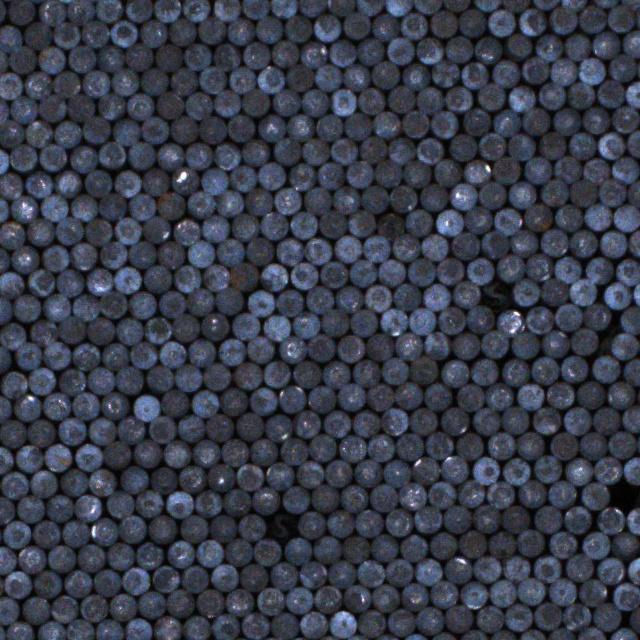tool: (517, 8, 546, 36), (548, 6, 577, 34), (228, 262, 257, 290), (59, 467, 87, 496), (354, 509, 383, 537), (312, 535, 340, 564), (291, 409, 320, 437), (372, 12, 399, 42), (197, 16, 225, 44), (302, 187, 330, 215), (582, 202, 610, 230), (612, 204, 640, 232), (10, 245, 38, 273), (187, 240, 215, 268), (480, 230, 508, 258), (143, 265, 171, 293), (99, 290, 127, 318), (407, 258, 435, 286), (2, 520, 30, 548), (480, 330, 508, 358), (190, 389, 218, 417), (88, 468, 116, 496), (103, 440, 131, 468), (163, 439, 191, 467), (134, 489, 162, 517), (147, 515, 175, 543), (222, 489, 250, 517), (46, 544, 74, 572), (610, 332, 638, 360), (352, 359, 380, 387), (307, 385, 335, 413), (219, 438, 247, 466), (296, 461, 324, 489), (382, 460, 410, 488), (502, 457, 530, 485), (564, 457, 592, 485), (398, 482, 426, 510), (427, 481, 455, 509), (384, 508, 412, 536), (548, 480, 576, 508), (472, 504, 500, 532), (501, 504, 529, 532), (356, 559, 384, 587), (384, 558, 412, 586), (533, 555, 561, 583), (578, 4, 605, 33), (301, 88, 328, 117), (198, 115, 225, 144), (492, 108, 519, 137), (598, 178, 625, 207), (523, 204, 552, 231), (216, 237, 243, 266), (134, 439, 161, 468), (90, 517, 117, 546), (424, 382, 451, 411), (485, 382, 512, 411), (563, 406, 590, 435), (425, 430, 452, 459), (611, 532, 638, 561), (415, 606, 442, 635), (24, 21, 51, 49), (81, 20, 108, 48), (168, 18, 195, 46), (226, 18, 254, 45), (254, 15, 282, 42), (284, 15, 312, 42), (313, 13, 340, 41), (429, 10, 456, 38), (457, 9, 485, 36), (37, 46, 64, 74), (256, 66, 284, 93), (371, 61, 398, 89), (430, 59, 458, 86), (459, 62, 487, 89), (433, 159, 461, 186), (492, 156, 519, 184), (360, 186, 388, 213), (449, 182, 476, 210), (539, 178, 566, 206), (200, 214, 228, 241), (231, 213, 258, 241), (290, 211, 317, 239), (318, 210, 346, 237), (376, 213, 404, 240), (554, 204, 582, 231), (98, 240, 125, 268), (157, 240, 184, 268), (245, 237, 272, 265), (362, 234, 389, 262), (173, 265, 200, 293), (260, 263, 287, 291), (290, 262, 318, 289), (186, 287, 213, 315), (215, 287, 242, 315), (305, 285, 333, 312), (422, 283, 450, 310), (452, 280, 479, 308), (512, 278, 540, 305), (603, 282, 631, 309), (3, 570, 30, 598), (306, 334, 334, 361), (27, 419, 54, 447), (58, 417, 85, 445), (116, 416, 144, 443), (205, 413, 232, 441), (236, 413, 263, 441), (75, 443, 102, 471), (0, 471, 28, 498), (119, 466, 147, 493), (178, 465, 206, 492), (192, 439, 219, 467), (77, 544, 104, 572), (253, 538, 280, 566), (32, 570, 60, 597), (64, 569, 91, 597), (51, 594, 78, 622), (80, 593, 107, 621), (196, 589, 223, 617), (256, 587, 284, 614), (285, 586, 312, 614), (314, 585, 341, 613), (526, 306, 553, 334), (570, 327, 597, 355), (366, 383, 393, 411), (394, 382, 422, 409), (338, 434, 365, 462), (455, 432, 482, 460), (487, 431, 514, 459), (265, 462, 293, 489), (411, 456, 438, 484), (311, 484, 338, 512), (443, 504, 470, 532), (580, 482, 608, 509), (563, 506, 590, 534), (516, 528, 543, 556), (326, 560, 354, 587), (328, 610, 356, 637), (371, 584, 398, 612), (429, 580, 456, 608), (444, 605, 472, 632), (516, 577, 544, 604), (613, 582, 640, 610), (562, 603, 589, 631), (593, 602, 620, 630), (492, 59, 518, 88), (457, 383, 483, 412), (282, 485, 308, 514), (356, 38, 383, 65), (170, 68, 197, 95), (53, 120, 80, 147), (170, 116, 197, 143), (402, 160, 429, 187), (27, 218, 54, 245), (187, 191, 214, 218), (244, 188, 271, 215), (332, 186, 359, 213), (392, 234, 419, 261), (509, 229, 536, 256), (12, 294, 39, 321), (247, 289, 274, 316), (393, 283, 420, 310), (436, 257, 463, 284), (568, 278, 595, 305), (424, 332, 451, 359), (234, 362, 261, 389), (148, 415, 175, 442), (15, 445, 42, 472), (166, 491, 193, 518), (193, 489, 220, 516), (225, 588, 252, 615), (211, 613, 238, 640), (496, 309, 523, 336), (409, 356, 436, 383), (337, 383, 364, 410), (501, 359, 528, 386), (516, 383, 543, 410), (249, 438, 276, 465), (532, 406, 559, 433), (324, 460, 351, 487), (354, 459, 381, 486), (297, 511, 324, 538), (370, 484, 397, 511), (486, 481, 513, 508), (518, 480, 545, 507), (596, 506, 623, 533), (369, 533, 396, 560), (549, 531, 576, 558), (414, 558, 441, 585), (473, 556, 500, 583), (502, 555, 529, 582), (110, 19, 136, 47), (140, 20, 166, 48), (488, 9, 514, 37), (607, 4, 633, 32), (242, 42, 270, 68), (386, 36, 412, 64), (199, 66, 225, 94), (286, 64, 312, 92), (401, 64, 429, 90), (550, 57, 576, 85), (608, 54, 634, 82), (66, 94, 92, 122), (98, 92, 124, 120), (185, 92, 211, 120), (140, 117, 168, 143), (227, 114, 253, 142), (402, 110, 428, 138), (431, 110, 457, 138), (553, 108, 579, 136), (450, 134, 476, 162), (567, 132, 595, 158), (596, 132, 624, 158), (114, 169, 140, 197), (172, 166, 198, 194), (201, 167, 227, 195), (258, 162, 284, 190), (316, 162, 344, 188), (346, 160, 372, 188), (524, 156, 550, 184), (128, 240, 154, 268), (304, 236, 330, 264), (28, 268, 54, 296), (44, 294, 70, 322), (128, 292, 156, 318), (158, 290, 184, 318), (350, 258, 376, 286), (364, 284, 390, 312), (526, 253, 552, 281), (59, 315, 85, 343), (1, 371, 27, 399), (22, 596, 48, 624), (379, 308, 407, 334), (394, 333, 422, 359), (292, 362, 320, 388), (0, 420, 26, 448), (30, 470, 56, 498), (32, 520, 58, 548), (107, 542, 133, 570), (225, 538, 251, 566), (92, 570, 120, 596), (138, 590, 164, 618), (239, 564, 267, 590), (441, 360, 467, 388), (607, 381, 633, 409), (381, 407, 407, 435), (309, 433, 335, 461), (367, 433, 393, 461), (396, 432, 422, 460), (592, 406, 618, 434), (578, 432, 606, 458), (472, 456, 498, 484), (534, 454, 560, 482), (594, 456, 620, 484), (252, 486, 278, 514), (457, 480, 483, 508), (534, 505, 560, 533), (400, 533, 426, 561), (343, 584, 369, 612), (387, 608, 413, 636), (401, 583, 427, 611), (460, 581, 486, 609), (548, 577, 574, 605), (441, 455, 466, 484), (53, 21, 79, 48), (343, 12, 370, 38), (400, 12, 426, 39), (9, 46, 35, 73), (68, 46, 95, 72), (183, 43, 210, 69), (52, 72, 79, 98), (141, 68, 167, 95), (228, 66, 255, 92), (314, 64, 341, 90), (341, 64, 368, 90), (578, 57, 604, 84), (10, 96, 36, 123), (271, 89, 298, 115), (388, 86, 414, 113), (416, 87, 442, 114), (477, 83, 503, 110), (112, 120, 139, 146), (230, 165, 256, 192), (464, 159, 490, 186), (611, 156, 638, 182), (56, 218, 83, 244), (98, 192, 125, 218), (157, 192, 183, 219), (216, 189, 242, 216), (273, 188, 300, 214), (419, 184, 446, 210), (478, 182, 504, 209), (570, 180, 597, 206), (114, 217, 140, 244), (142, 215, 168, 242), (172, 219, 199, 245), (261, 212, 287, 239), (435, 209, 462, 235), (464, 206, 491, 232), (493, 208, 520, 234), (334, 235, 360, 262), (421, 233, 447, 260), (451, 233, 478, 259), (569, 230, 595, 257), (57, 269, 83, 296), (86, 267, 112, 294), (114, 266, 140, 293), (276, 289, 302, 316), (335, 286, 362, 312), (585, 257, 612, 283), (540, 278, 567, 304), (43, 342, 70, 368), (102, 343, 128, 370), (27, 368, 54, 394), (18, 546, 44, 573), (172, 314, 198, 341), (200, 312, 226, 339), (350, 309, 376, 336), (408, 307, 434, 334), (437, 307, 464, 333), (58, 368, 85, 394), (14, 394, 41, 420), (44, 444, 70, 471), (62, 520, 88, 547), (118, 515, 144, 542), (180, 516, 207, 542), (238, 513, 264, 540), (207, 463, 233, 490), (236, 464, 262, 491), (196, 539, 222, 566), (109, 593, 136, 619), (166, 589, 193, 615), (241, 612, 268, 638), (271, 612, 298, 638), (300, 611, 326, 638), (555, 303, 581, 330), (583, 303, 610, 329), (511, 332, 538, 358), (542, 329, 568, 356), (322, 361, 348, 388), (531, 357, 557, 384), (546, 381, 572, 408), (592, 355, 618, 382), (280, 438, 307, 464), (441, 407, 467, 434), (516, 431, 542, 458), (550, 432, 576, 459), (608, 431, 634, 458), (326, 510, 353, 536), (413, 506, 440, 532), (458, 530, 484, 557), (582, 532, 609, 558), (444, 556, 470, 583), (566, 554, 592, 581), (597, 557, 623, 584), (489, 579, 515, 606), (476, 605, 502, 632), (504, 604, 531, 630), (534, 602, 560, 629), (156, 144, 184, 169), (375, 159, 400, 187), (600, 230, 625, 258), (320, 262, 348, 287), (265, 414, 290, 442), (324, 410, 349, 438), (341, 484, 366, 512), (125, 44, 151, 70), (212, 44, 238, 70), (300, 42, 326, 68), (328, 40, 354, 66), (415, 36, 441, 62), (474, 38, 500, 64), (535, 35, 561, 61), (592, 32, 618, 58), (24, 72, 50, 98), (126, 94, 152, 120), (156, 92, 182, 118), (242, 90, 268, 116), (25, 120, 51, 146), (83, 116, 109, 142), (582, 107, 608, 133), (9, 144, 35, 170), (40, 194, 66, 220), (70, 194, 96, 220), (416, 138, 442, 164), (538, 132, 564, 158), (554, 157, 580, 183), (390, 185, 416, 211), (508, 182, 534, 208), (85, 219, 111, 245), (348, 210, 374, 236), (42, 245, 68, 271), (73, 294, 99, 320), (378, 259, 404, 285), (466, 258, 492, 284), (497, 255, 523, 281), (554, 257, 580, 283), (87, 318, 113, 344), (116, 318, 142, 344), (144, 316, 170, 342), (366, 333, 392, 359), (87, 367, 113, 393), (174, 365, 200, 391), (43, 393, 69, 419), (100, 392, 126, 418), (250, 388, 276, 414), (178, 416, 204, 442), (150, 467, 176, 493), (17, 496, 43, 522), (46, 494, 72, 520), (74, 494, 100, 520), (284, 538, 310, 564), (181, 566, 207, 592), (271, 562, 297, 588), (471, 359, 497, 385), (577, 381, 603, 407), (410, 408, 436, 434), (473, 408, 499, 434), (501, 407, 527, 433), (342, 536, 368, 562), (430, 532, 456, 558), (488, 532, 514, 558), (358, 610, 384, 636), (580, 579, 606, 605), (446, 35, 471, 62), (110, 70, 137, 95), (39, 94, 64, 121), (508, 85, 533, 112), (344, 112, 369, 139), (274, 137, 299, 164), (406, 209, 431, 236), (70, 243, 95, 270), (541, 229, 566, 256), (15, 342, 40, 369), (130, 341, 155, 368), (73, 392, 98, 419), (168, 540, 193, 567), (382, 357, 407, 384), (561, 355, 586, 382), (204, 263, 228, 291), (616, 258, 640, 286), (181, 616, 209, 640), (155, 44, 180, 70), (272, 41, 297, 67), (506, 34, 531, 60), (521, 57, 546, 83), (214, 90, 239, 116), (358, 88, 383, 114), (316, 114, 341, 140), (464, 110, 489, 136), (611, 107, 637, 132), (26, 172, 52, 197), (39, 145, 65, 170), (54, 171, 80, 196), (71, 146, 96, 172), (99, 142, 124, 168), (85, 170, 110, 196), (186, 143, 211, 169), (331, 139, 357, 164), (388, 137, 413, 163), (143, 169, 168, 195), (289, 163, 314, 189), (276, 239, 302, 264), (232, 313, 258, 338), (264, 314, 289, 340), (188, 340, 213, 366), (218, 339, 243, 365), (338, 334, 363, 360), (468, 306, 493, 332), (264, 362, 289, 388), (161, 390, 186, 416), (106, 491, 132, 516), (210, 516, 235, 542), (136, 543, 162, 568), (153, 566, 178, 592), (211, 564, 236, 590), (300, 562, 326, 587), (444, 86, 471, 110), (598, 80, 622, 107), (286, 114, 313, 138), (374, 111, 398, 138), (12, 195, 36, 222), (74, 344, 98, 371), (158, 342, 185, 366), (452, 334, 479, 358), (353, 412, 380, 436), (39, 0, 64, 25), (128, 142, 153, 167), (214, 144, 239, 169), (508, 134, 533, 159), (583, 159, 608, 184), (129, 193, 154, 218), (293, 312, 318, 337), (280, 337, 305, 362), (279, 387, 304, 412), (68, 0, 94, 24), (98, 45, 122, 71), (84, 70, 108, 96), (568, 84, 594, 108), (258, 116, 284, 140), (524, 109, 548, 135), (361, 136, 385, 162), (0, 323, 24, 349), (116, 367, 142, 391), (203, 364, 229, 388), (221, 390, 245, 416), (89, 418, 113, 444), (123, 568, 149, 592), (154, 616, 180, 640), (331, 88, 354, 115), (0, 271, 23, 298), (564, 35, 589, 59), (539, 84, 563, 109), (479, 134, 504, 158), (31, 321, 56, 345), (248, 337, 272, 362), (134, 395, 158, 420), (0, 222, 23, 248), (323, 308, 346, 334), (147, 367, 173, 390), (95, 0, 122, 22), (0, 72, 21, 100), (0, 24, 20, 53), (8, 0, 33, 23), (154, 0, 180, 22), (0, 120, 22, 146), (213, 0, 240, 21), (95, 619, 122, 640), (620, 306, 640, 334), (243, 140, 267, 163), (304, 140, 328, 163), (126, 617, 150, 640), (126, 0, 151, 22), (66, 619, 92, 640), (183, 0, 208, 21), (622, 456, 640, 484), (0, 173, 20, 198), (242, 0, 268, 19), (38, 621, 64, 640), (6, 621, 32, 640), (622, 29, 640, 56), (622, 405, 640, 432), (298, 0, 326, 16), (326, 0, 354, 16), (384, 0, 412, 16), (624, 80, 640, 108), (270, 0, 296, 17), (0, 598, 17, 624), (623, 358, 640, 384), (356, 0, 382, 16), (0, 546, 14, 574), (414, 0, 441, 14), (627, 180, 640, 208), (627, 556, 640, 584), (547, 627, 575, 640), (578, 626, 604, 640), (0, 496, 13, 523), (627, 507, 640, 534), (0, 446, 12, 474), (502, 0, 528, 12), (628, 130, 640, 156), (610, 628, 636, 640), (0, 296, 10, 325), (474, 0, 500, 11), (629, 230, 640, 256), (442, 0, 468, 10), (559, 0, 585, 10)
tool_b: (477, 277, 514, 308), (266, 510, 298, 541)
void: (606, 483, 640, 508)
